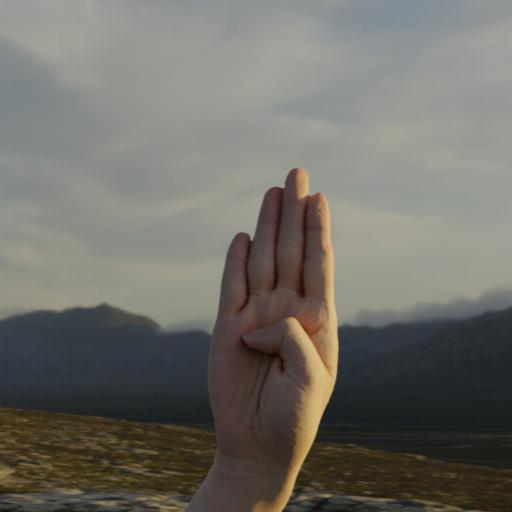B: (196, 164, 346, 458)
